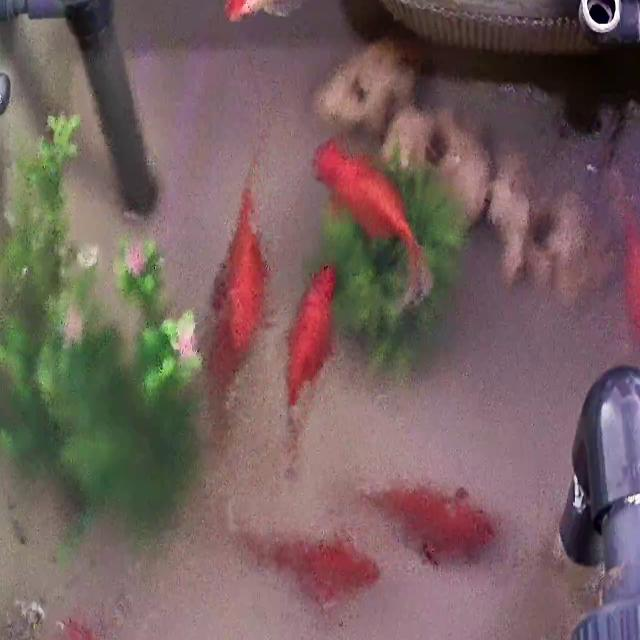fish: (321, 136, 428, 305), (203, 163, 268, 417), (231, 524, 371, 611), (282, 263, 333, 458), (359, 482, 483, 556), (618, 192, 640, 363)
